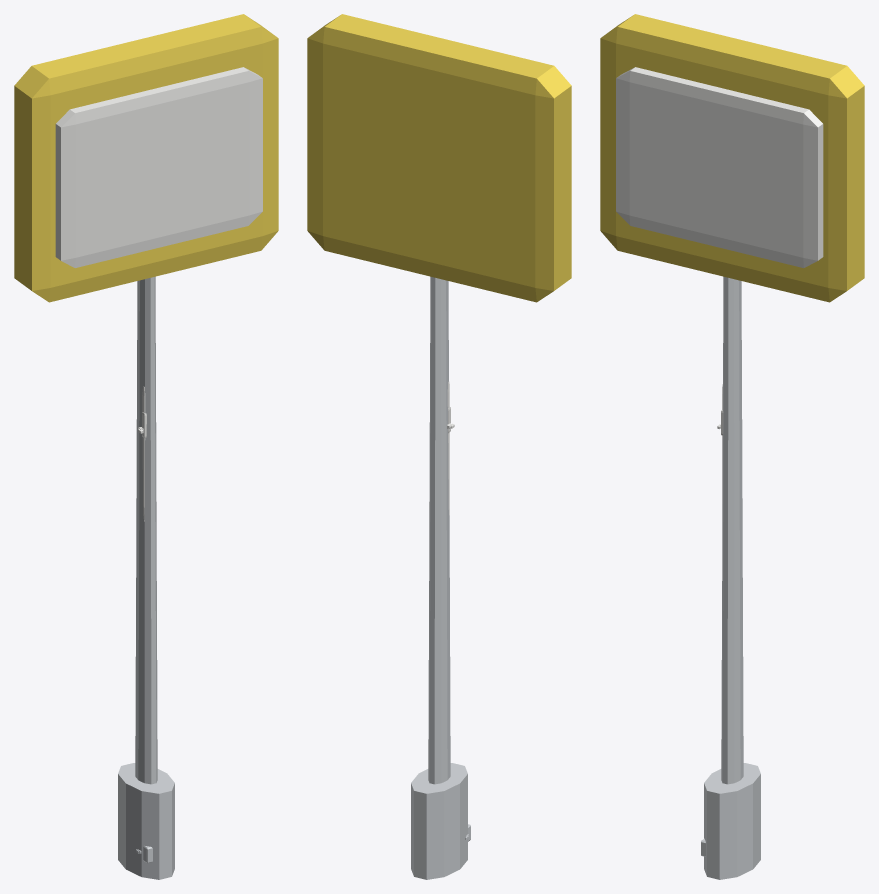
Rendered from b02_school_crossing.glb.
3 views of the same model, side by side, from view 1: azimuth 30°, elevation 25°; view 2: azimuth 150°, elevation 25°; view 3: azimuth 330°, elevation 25° (orthographic).
Visible parts, largest first — view 1: b02_school_crossing; view 2: b02_school_crossing; view 3: b02_school_crossing.
Part boxes in pixels (<box>): b02_school_crossing: <box>14,14,278,879</box>; b02_school_crossing: <box>307,14,571,879</box>; b02_school_crossing: <box>600,14,864,879</box>.
Size of the model in its own units: 0.8 by 2.53 by 0.214.
